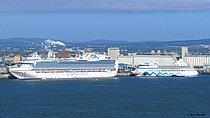Ship: (7, 46, 123, 85), (129, 59, 205, 83)
